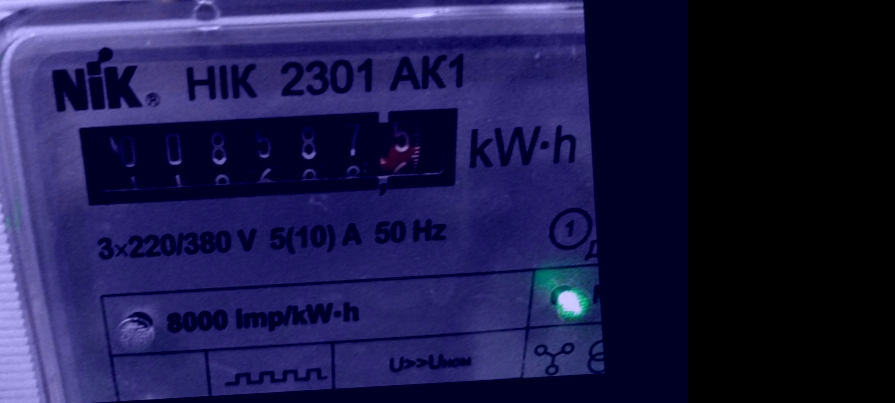0: (159, 128, 185, 169)
1: (113, 131, 140, 173)
5: (388, 116, 414, 157), (250, 124, 275, 163)
7: (339, 120, 364, 162)
8: (203, 127, 231, 170), (295, 122, 318, 164)
screen: (57, 86, 481, 229)
